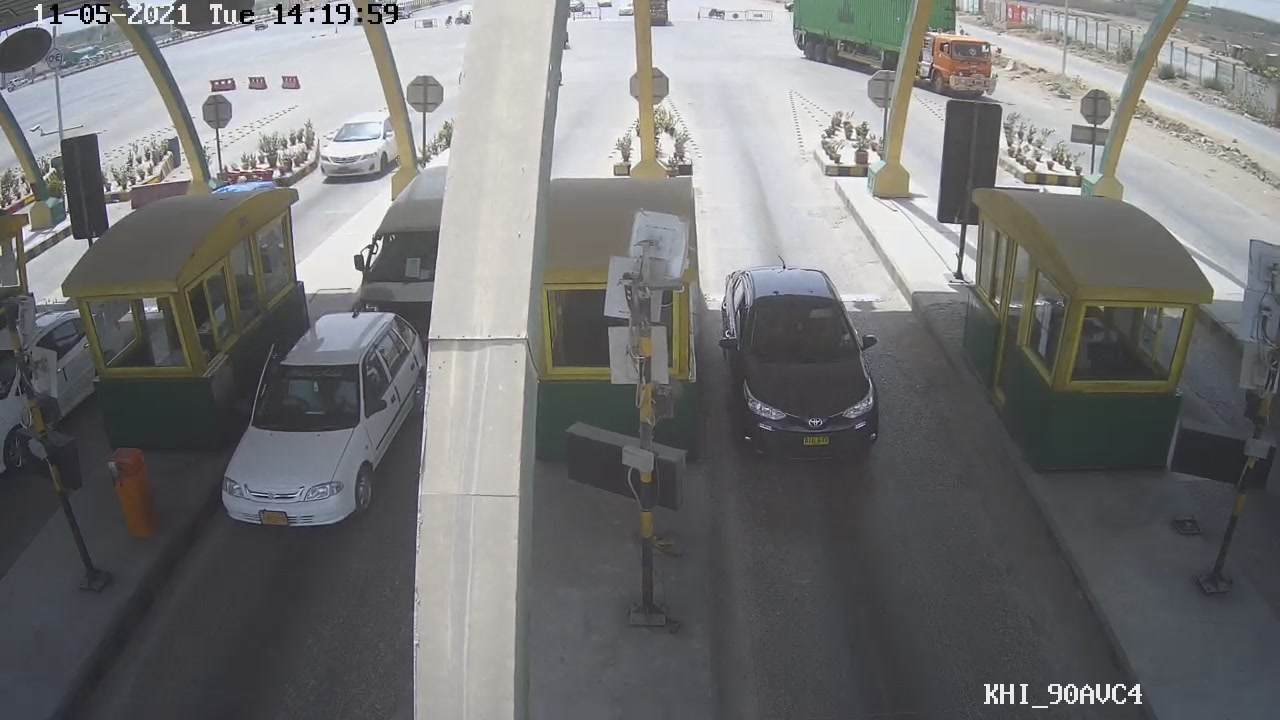F1: (712, 268, 885, 461)
